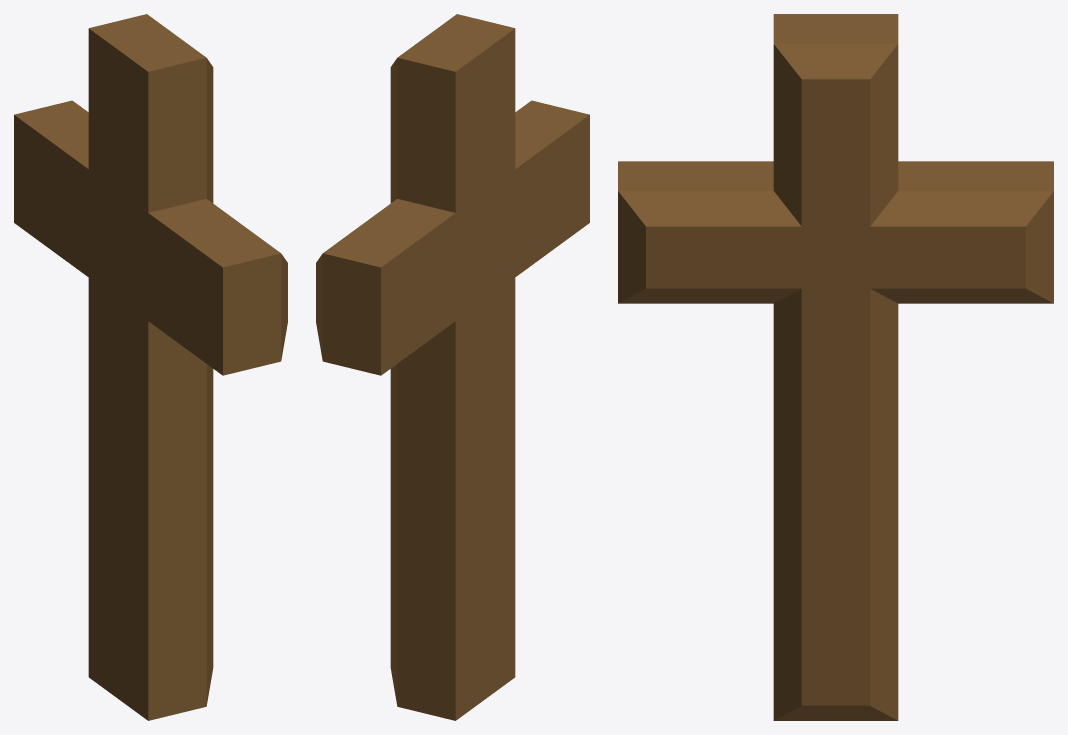
File: crucifixo.fbx
3 renders of one model, left to right at view 1: azimuth 30°, elevation 25°; view 2: azimuth 150°, elevation 25°; view 3: azimuth 270°, elevation 25°, orthographic. The views are drawn at different scales.
Parts seen in each view (by area): view 1: Cube; view 2: Cube; view 3: Cube.
Part boxes in pixels (x1,y1,x2,y2): Cube: (14,14,287,720); Cube: (316,14,589,720); Cube: (618,14,1053,720).
Bounding box in the file's own units: 25.32 × 200 × 117.
